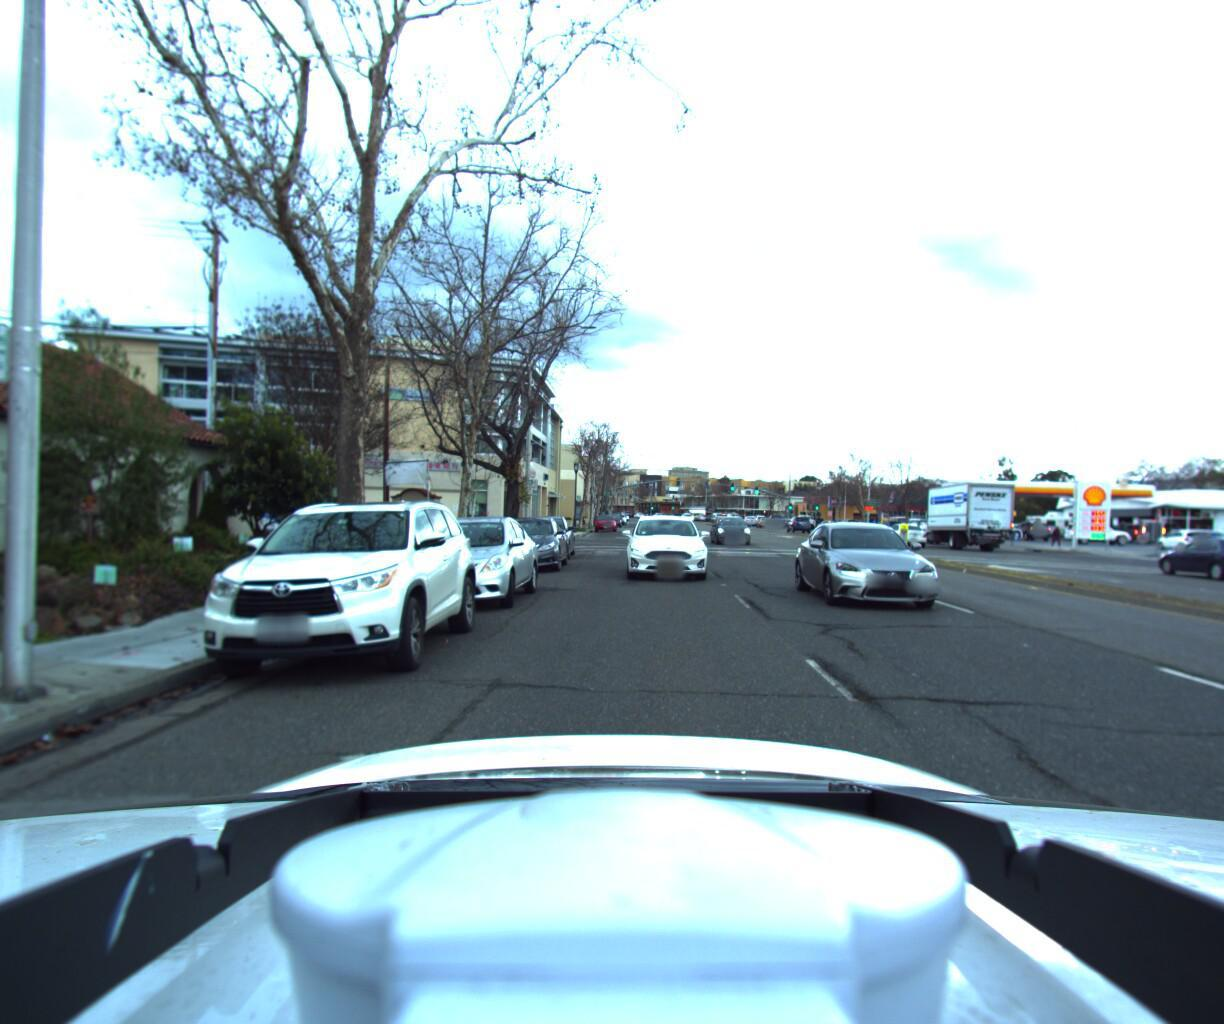car: (159, 484, 487, 700), (790, 520, 992, 631), (385, 511, 546, 615), (618, 511, 718, 587), (483, 511, 570, 575), (1134, 531, 1224, 583), (510, 513, 577, 561), (1056, 524, 1136, 551), (708, 511, 759, 544), (1148, 526, 1212, 551), (874, 518, 928, 544), (1099, 519, 1156, 542), (1004, 517, 1052, 540), (783, 514, 813, 532), (591, 513, 616, 532)
other_vehicle: (1128, 513, 1169, 543)
truck: (905, 478, 1023, 552)
